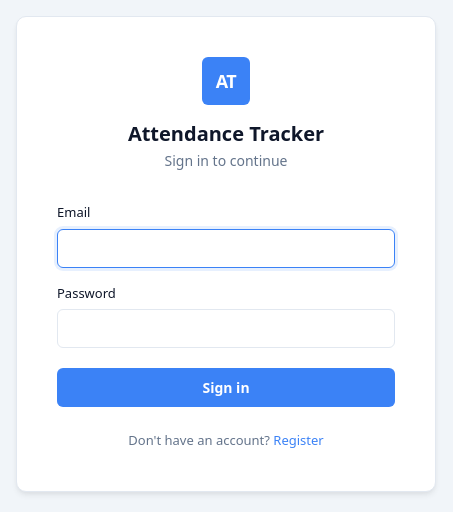
Test: LoginPage › disables submit button and shows "Signing in…" while request is in-flight
Type "test@example.com" into the field labelled "Email". click: (226, 248)
box: [57,229,395,268]
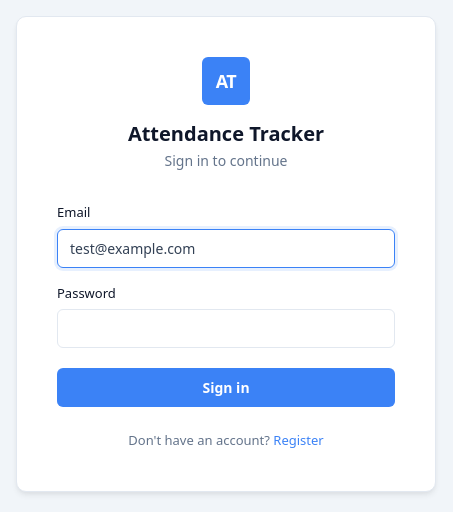
Type "SecurePass123!" into the password field labelled "Password". click: (226, 329)
box: [57,309,395,348]
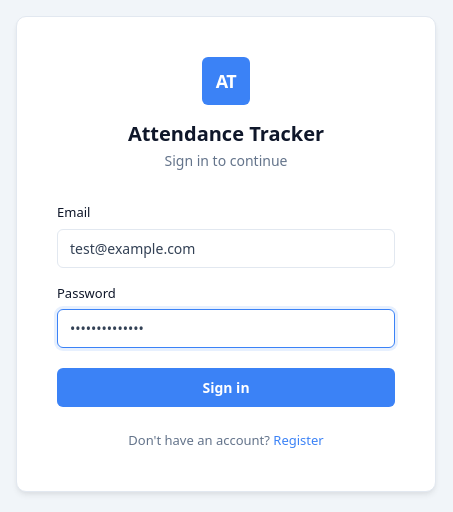
Click the button "Sign in". click: (226, 388)
box: [57,368,395,407]
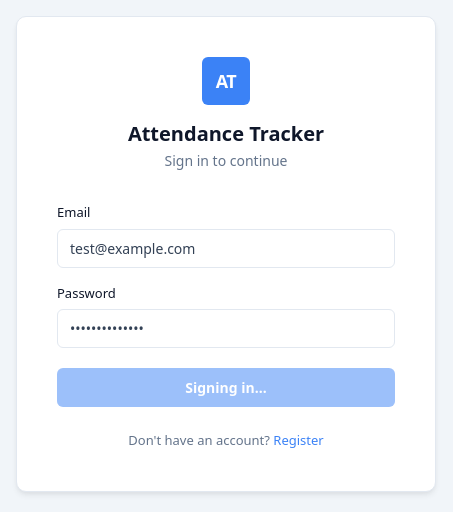
Result: the button "Signing in…" is disabled at [57,368,395,407]
